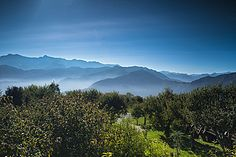mountain: (0, 85, 173, 151), (121, 78, 236, 145), (6, 57, 221, 88)
sky_cloud: (7, 11, 233, 58)
